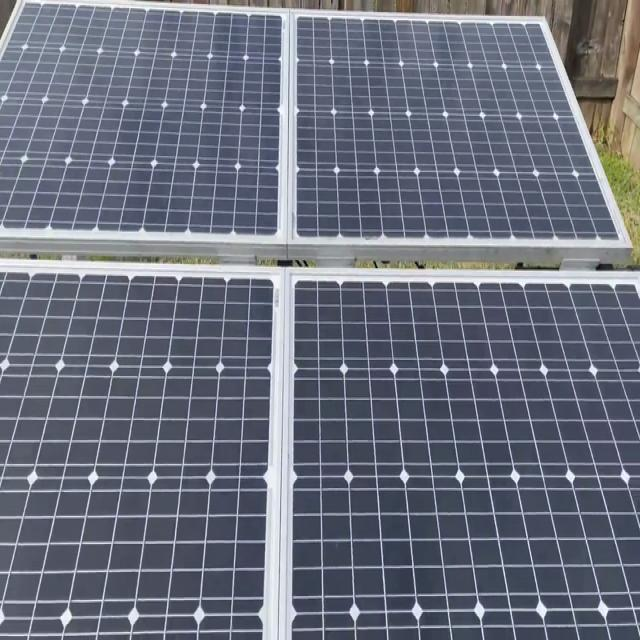Normal Solar Panel: (280, 278, 639, 639), (0, 268, 280, 637), (292, 15, 628, 246)
